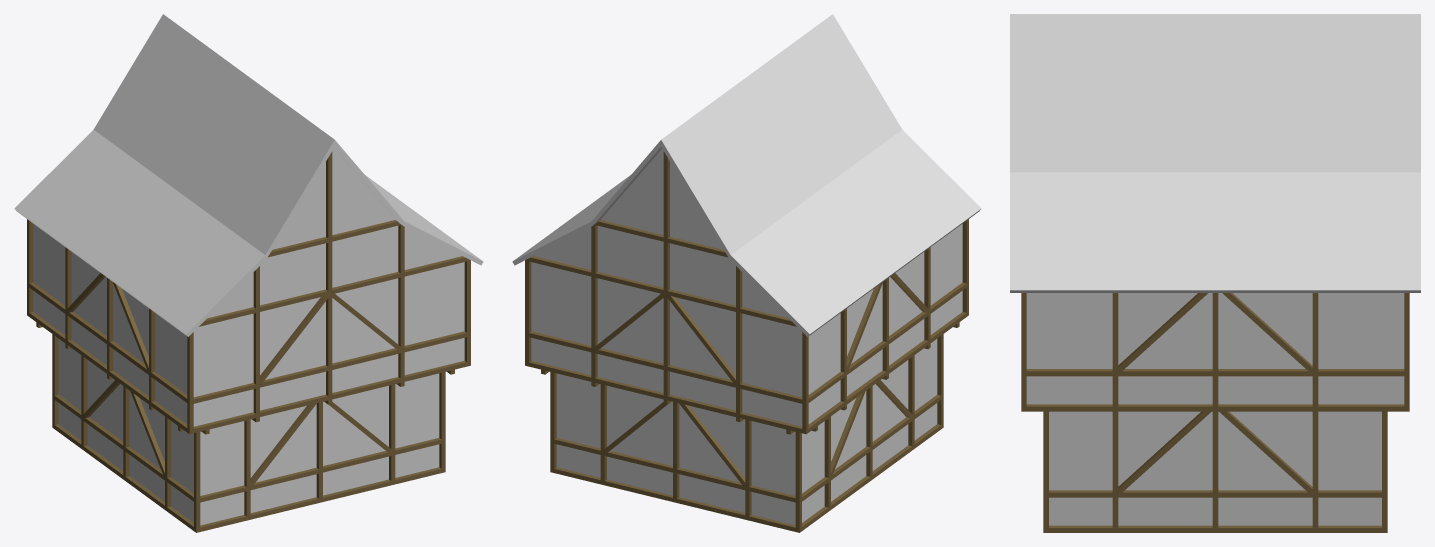
Rendered from HouseBase.fbx.
3 views of the same model, side by side, from view 1: azimuth 30°, elevation 25°; view 2: azimuth 150°, elevation 25°; view 3: azimuth 270°, elevation 25° (orthographic). The views are drawn at different scales.
Visible parts, largest first — view 1: HouseBase, HouseBase_Frame; view 2: HouseBase, HouseBase_Frame; view 3: HouseBase, HouseBase_Frame.
Part boxes in pixels (x1,y1,x2,y2): HouseBase: (14, 14, 483, 525); HouseBase_Frame: (27, 151, 470, 532); HouseBase: (512, 14, 981, 525); HouseBase_Frame: (525, 151, 968, 532); HouseBase: (1010, 14, 1420, 525); HouseBase_Frame: (1021, 293, 1409, 532).
Bounding box in the file's own units: 37.02 × 44.34 × 37.
